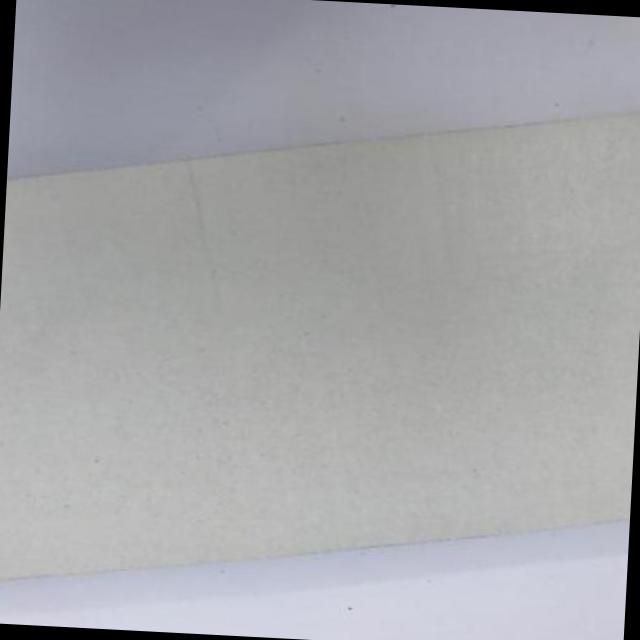cardboard paper: (0, 118, 640, 578)
